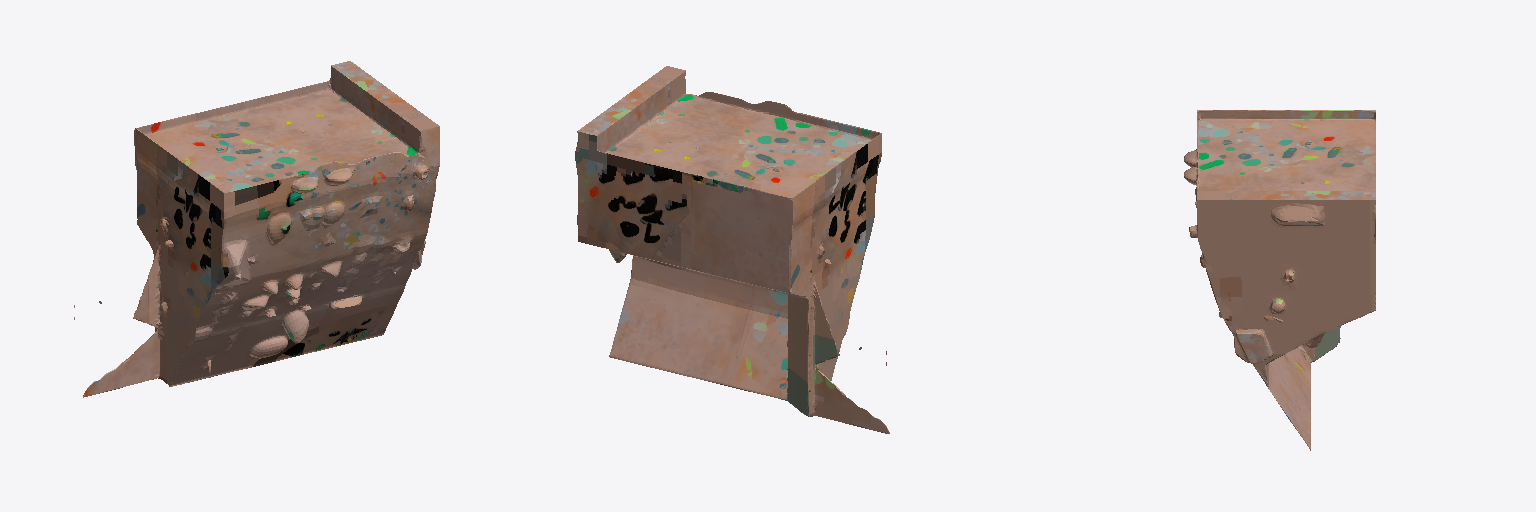
The picture shows the model from 3 angles: view 1: azimuth 30°, elevation 25°; view 2: azimuth 150°, elevation 25°; view 3: azimuth 270°, elevation 25°; orthographic projection.
Visible parts, largest first — view 1: model; view 2: model; view 3: model.
Boxes of the visible parts, <box> form: model: <box>74,61,439,397</box>; model: <box>575,66,889,433</box>; model: <box>1184,110,1375,450</box>.
Bounding box in the file's own units: 1.89 × 1.5 × 1.05.
Materials: 1 (1 with a texture image).